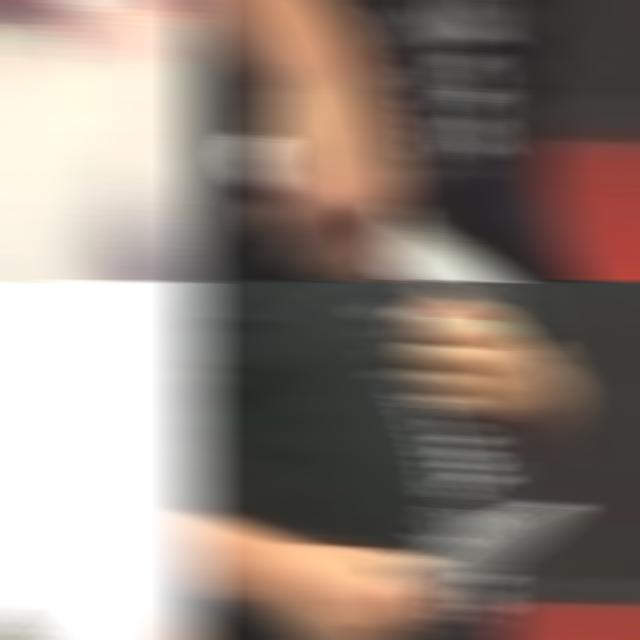Knife: (392, 502, 574, 600)
Knife_Handle: (232, 132, 546, 282), (280, 502, 578, 640), (0, 472, 210, 640), (0, 0, 210, 68)
